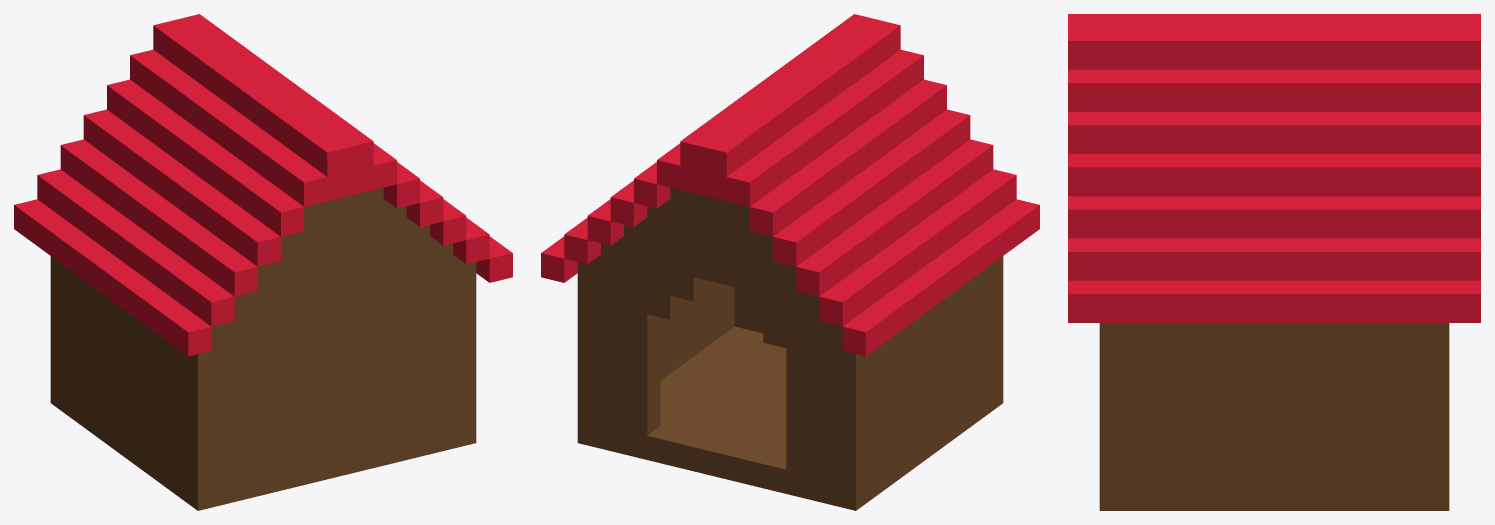
Rendered from casaCachorro.obj.
3 renders of one model, left to right at view 1: azimuth 30°, elevation 25°; view 2: azimuth 150°, elevation 25°; view 3: azimuth 270°, elevation 25°, orthographic. The views are drawn at different scales.
Parts seen in each view (by area): view 1: Model; view 2: Model; view 3: Model.
Part boxes in pixels (box(x1,y1,x2,y2)): Model: box(14, 14, 512, 510); Model: box(541, 14, 1039, 510); Model: box(1068, 14, 1480, 510).
Size of the model in its own units: 28 by 28 by 26.
Materials: 1 (1 with a texture image).
